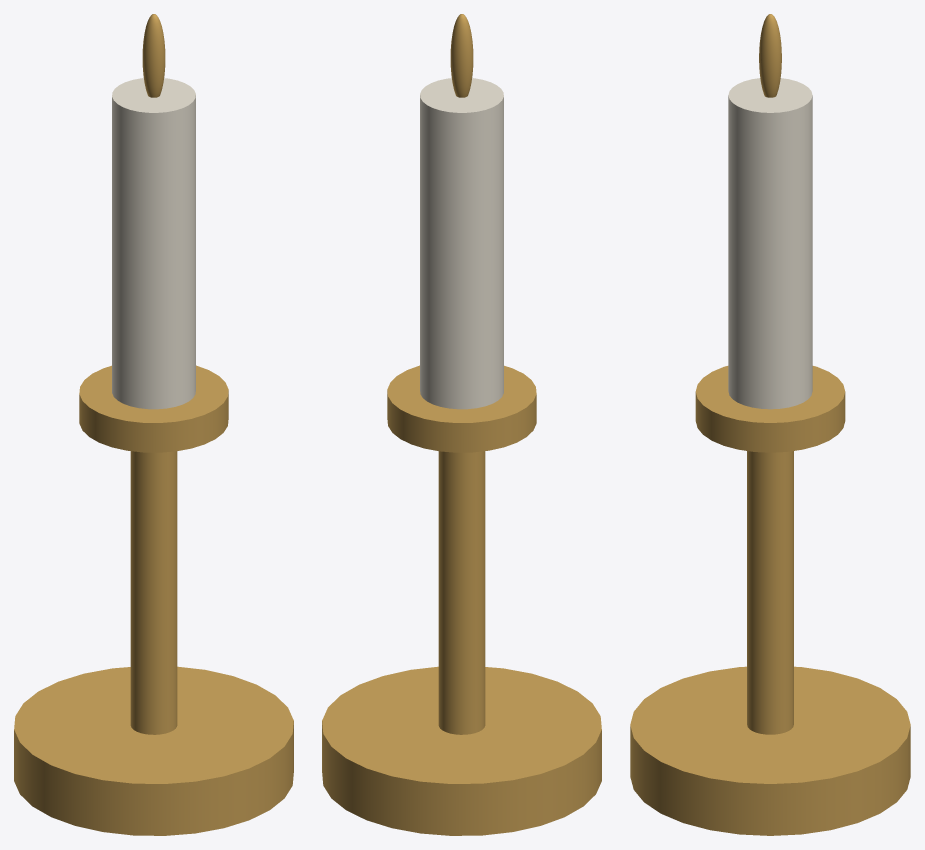
File: wp-bougeoir-de-table.glb
The picture shows the model from 3 angles, left to right: view 1: azimuth 30°, elevation 25°; view 2: azimuth 150°, elevation 25°; view 3: azimuth 270°, elevation 25°; orthographic projection.
Parts seen in each view (by area): view 1: wp-bougeoir-de-table; view 2: wp-bougeoir-de-table; view 3: wp-bougeoir-de-table.
Boxes of the visible parts, left/top/right/bottom form: wp-bougeoir-de-table: left=14, top=14, right=293, bottom=835; wp-bougeoir-de-table: left=322, top=14, right=601, bottom=835; wp-bougeoir-de-table: left=630, top=14, right=910, bottom=835.
Bounding box in the file's own units: 0.1 × 0.3 × 0.1.
